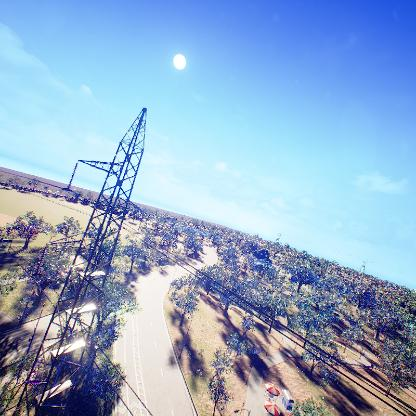tower: (1, 104, 156, 416)
